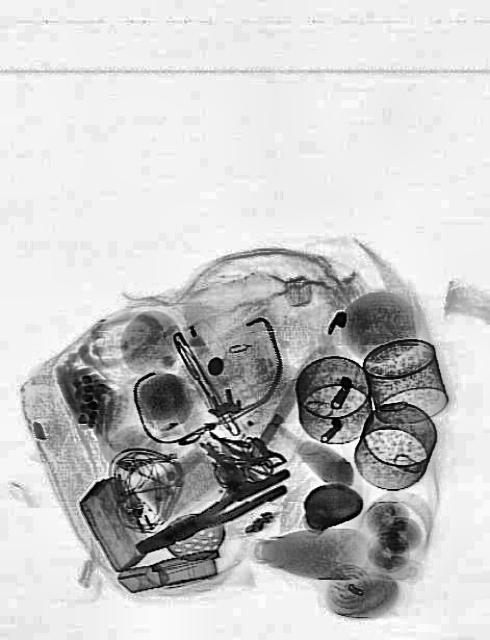Pliers: (133, 462, 295, 562)
